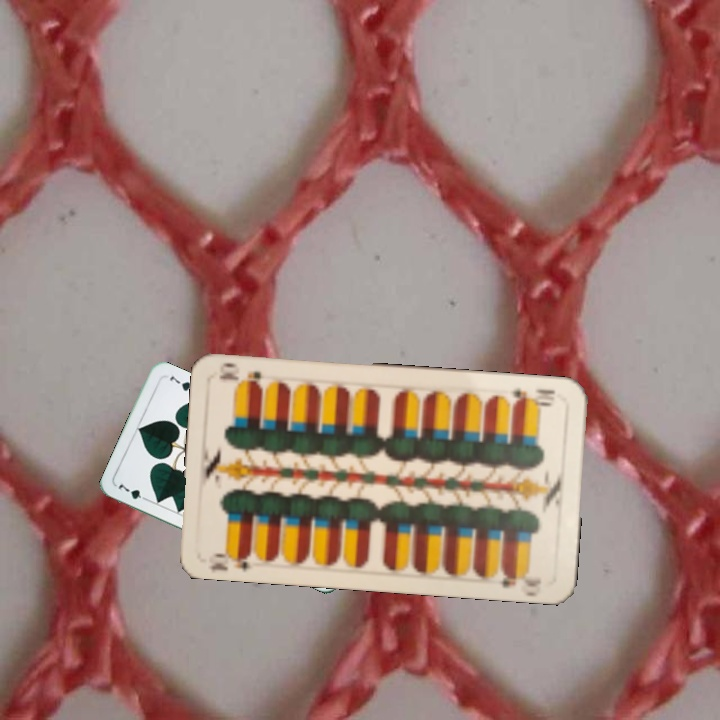E10: (206, 545, 261, 574), (506, 385, 557, 409)
G7: (114, 480, 152, 504)
